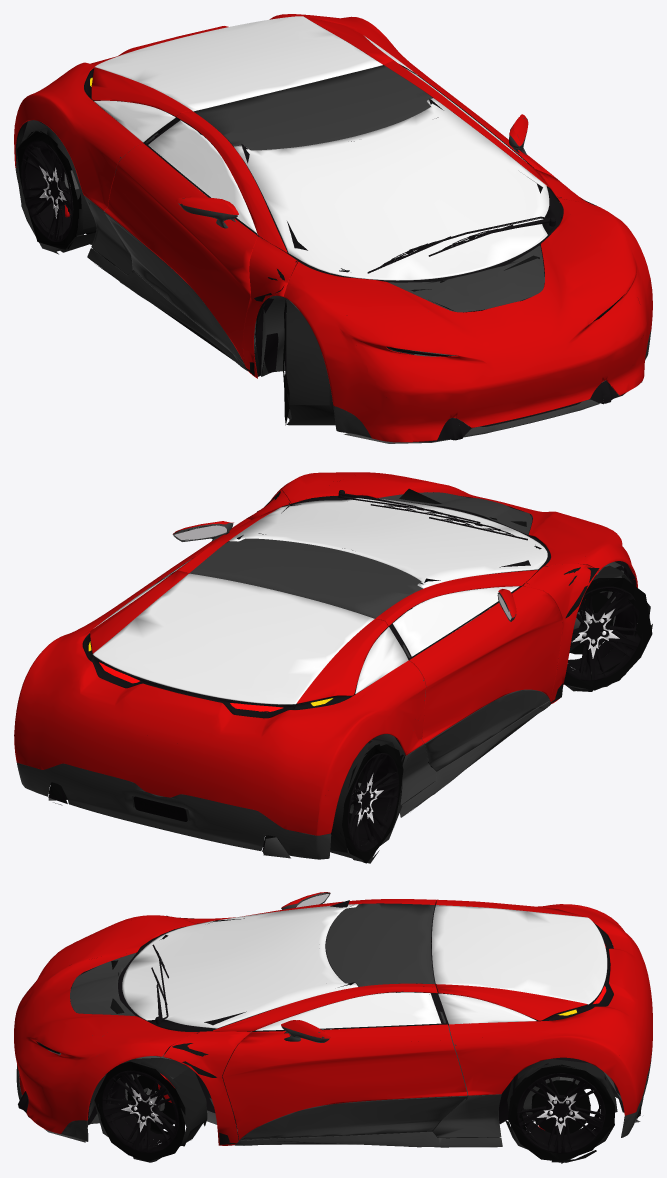
The model's file is TurboFalcon.fbx.
3 renders of one model, top to bottom at view 1: azimuth 30°, elevation 25°; view 2: azimuth 150°, elevation 25°; view 3: azimuth 270°, elevation 25°, orthographic. The views are drawn at different scales.
Parts seen in each view (by area): view 1: BodyHood, BodyWindshield, BodyRearwindow, BodyDoorRColor1, BodyRearPanelsColor1, BodyRoofPanel, BodyPillars, BodyPanelsColor2, BodyHoodTopgrill, WheelFrontR, BodyDoorRWindow, WheelRearRRim (+11 smaller); view 2: BodyRearPanelsColor1, BodyRearwindow, BodyWindshield, BodyDoorRColor1, BodyPanelsColor2, BodyRoofPanel, BodyHood, BodyPillars, WheelFrontRRim, BodyDoorRColor2, WheelRearRRim, BodyDoorRWindow (+9 smaller); view 3: BodyWindshield, BodyRearPanelsColor1, BodyDoorLColor1, BodyHood, BodyRearwindow, BodyRoofPanel, BodyPillars, BodyDoorLColor2, BodyPanelsColor2, WheelRearLRim, WheelFrontL, WheelFrontLRim (+13 smaller).
Boxes of the visible parts, box(x1,y1,x2,y2) form: BodyHood: box(283, 198, 652, 442); BodyWindshield: box(234, 98, 549, 280); BodyRearwindow: box(94, 16, 382, 111); BodyDoorRColor1: box(104, 143, 257, 362); BodyRearPanelsColor1: box(14, 14, 428, 210); BodyRoofPanel: box(193, 65, 432, 150); BodyPillars: box(176, 61, 598, 378); BodyPanelsColor2: box(15, 163, 651, 438); BodyHoodTopgrill: box(388, 245, 544, 312); WheelFrontR: box(283, 299, 335, 425); BodyDoorRWindow: box(148, 120, 257, 234); WheelRearRRim: box(21, 140, 95, 241); BodyRearPanelsColor1: box(14, 570, 426, 835); BodyRearwindow: box(92, 573, 374, 704); BodyWindshield: box(229, 498, 547, 588); BodyDoorRColor1: box(409, 586, 562, 743); BodyPanelsColor2: box(16, 700, 550, 859); BodyRoofPanel: box(189, 538, 422, 618); BodyHood: box(278, 472, 637, 587); BodyPillars: box(175, 490, 599, 703); WheelFrontRRim: box(566, 586, 640, 680); BodyDoorRColor2: box(424, 689, 549, 770); WheelRearRRim: box(347, 753, 399, 851); BodyDoorRWindow: box(392, 586, 519, 656); BodyWindshield: box(122, 904, 358, 1028); BodyRearPanelsColor1: box(436, 899, 652, 1115); BodyDoorLColor1: box(222, 1024, 467, 1139); BodyHood: box(14, 915, 196, 1133); BodyRearwindow: box(432, 905, 607, 1004); BodyRoofPanel: box(326, 903, 434, 986); BodyPillars: box(163, 899, 437, 1145); BodyDoorLColor2: box(240, 1096, 467, 1140); BodyPanelsColor2: box(16, 1051, 652, 1147); WheelRearLRim: box(517, 1063, 605, 1153); WheelFrontL: box(94, 1057, 207, 1162); WheelFrontLRim: box(102, 1070, 178, 1152).
Size of the model in its own units: 2.66 by 1.21 by 4.5.
23 materials, 3 textured.
